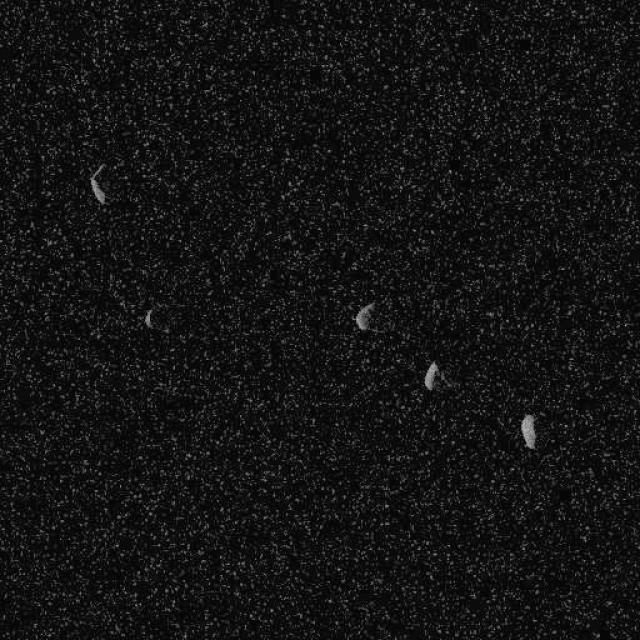D2: (89, 161, 108, 205), (352, 300, 378, 331), (519, 412, 536, 450), (422, 360, 440, 390), (143, 306, 155, 329)
